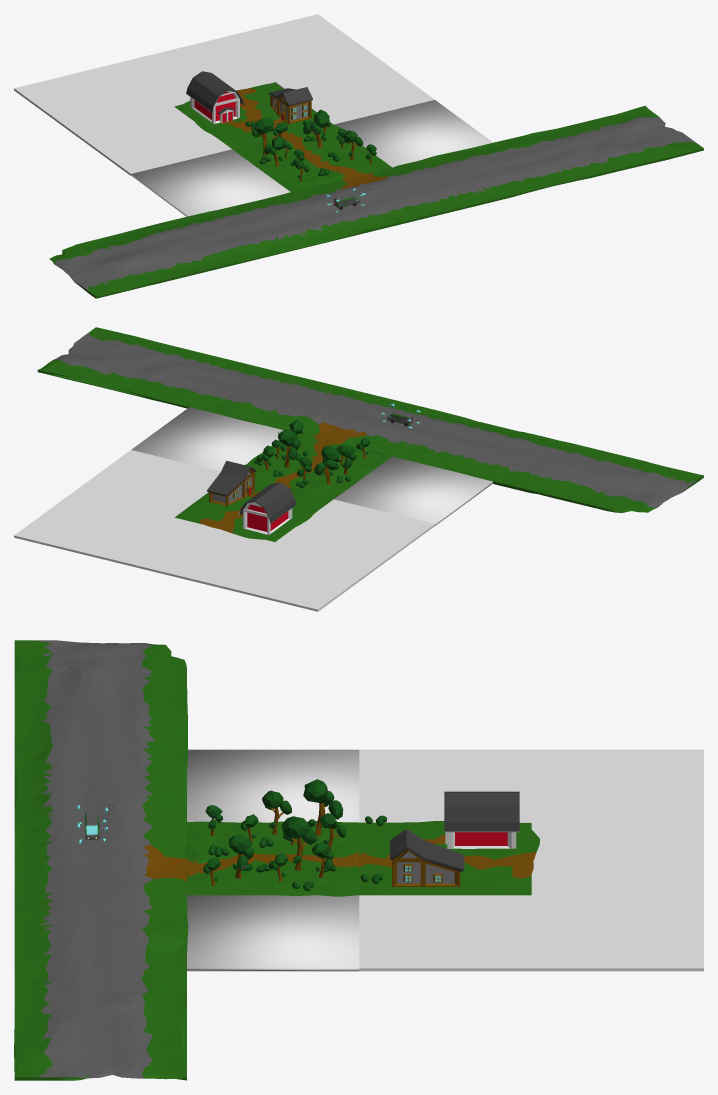
File: Farm.glb
3 views of the same model, one above another, from view 1: azimuth 30°, elevation 25°; view 2: azimuth 150°, elevation 25°; view 3: azimuth 270°, elevation 25° (orthographic). The views are drawn at different scales.
Visible parts, largest first — view 1: Road, Cube.006, Cube.008, Cube.002, Cube.009, Cube.007, Cube.001, Cube.003, AppleGround, FarmGround, Barn, House (+1 smaller); view 2: Road, Cube.008, Cube.009, Cube.003, Cube.006, Cube.002, Cube.001, Cube.007, AppleGround, FarmGround, Barn, House (+2 smaller); view 3: Road, Cube.001, Cube.009, Cube.007, Cube.008, Cube.003, Cube.006, Cube.002, AppleGround, FarmGround, Barn, House (+2 smaller).
Part boxes in pixels (x1=…): Road: x1=49, y1=105, x2=703, y2=298; Cube.006: x1=131, y1=149, x2=290, y2=216; Cube.008: x1=14, y1=63, x2=173, y2=132; Cube.002: x1=72, y1=106, x2=231, y2=175; Cube.009: x1=217, y1=14, x2=375, y2=81; Cube.007: x1=334, y1=100, x2=492, y2=167; Cube.001: x1=275, y1=57, x2=434, y2=124; Cube.003: x1=115, y1=39, x2=274, y2=106; AppleGround: x1=232, y1=124, x2=391, y2=191; FarmGround: x1=174, y1=82, x2=332, y2=148; Barn: x1=186, y1=71, x2=243, y2=123; House: x1=268, y1=87, x2=312, y2=124; Road: x1=37, y1=327, x2=703, y2=512; Cube.008: x1=216, y1=542, x2=376, y2=611; Cube.009: x1=14, y1=492, x2=173, y2=562; Cube.003: x1=115, y1=517, x2=274, y2=586; Cube.006: x1=334, y1=456, x2=493, y2=525; Cube.002: x1=275, y1=499, x2=434, y2=568; Cube.001: x1=73, y1=450, x2=220, y2=517; Cube.007: x1=131, y1=407, x2=283, y2=471; AppleGround: x1=245, y1=433, x2=391, y2=499; FarmGround: x1=175, y1=480, x2=332, y2=541; Barn: x1=238, y1=482, x2=296, y2=535; House: x1=207, y1=460, x2=256, y2=505; Road: x1=14, y1=640, x2=188, y2=1080; Cube.001: x1=359, y1=895, x2=531, y2=971; Cube.009: x1=531, y1=895, x2=703, y2=971; Cube.007: x1=187, y1=895, x2=359, y2=971; Cube.008: x1=531, y1=749, x2=703, y2=822; Cube.003: x1=531, y1=822, x2=703, y2=895; Cube.006: x1=187, y1=749, x2=359, y2=822; Cube.002: x1=359, y1=749, x2=531, y2=823; AppleGround: x1=184, y1=821, x2=359, y2=896; FarmGround: x1=358, y1=821, x2=539, y2=895; Barn: x1=444, y1=791, x2=519, y2=848; House: x1=390, y1=829, x2=464, y2=886.
Size of the model in its own units: 300 by 19.6 by 200.
